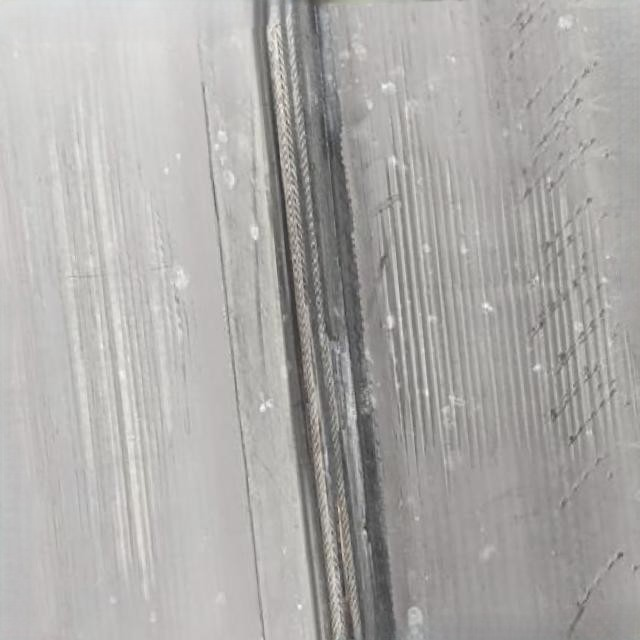Tear: (246, 0, 402, 640)
Wear: (356, 56, 633, 493), (8, 65, 204, 603)
